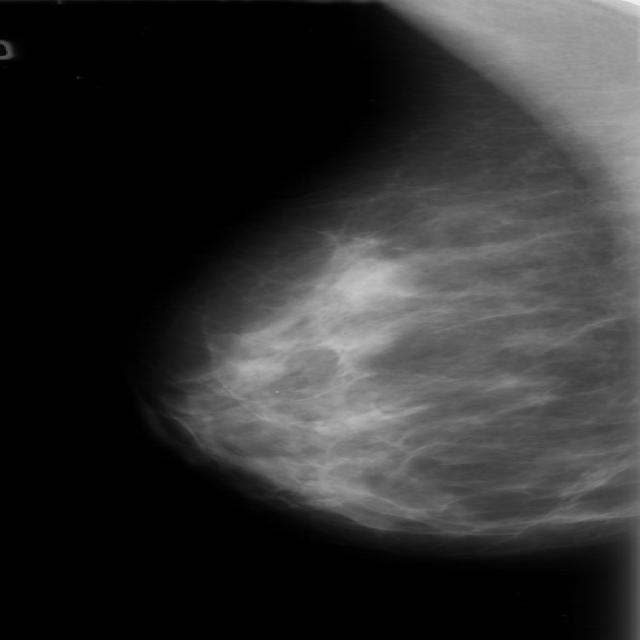tumour: (328, 256, 404, 312)
